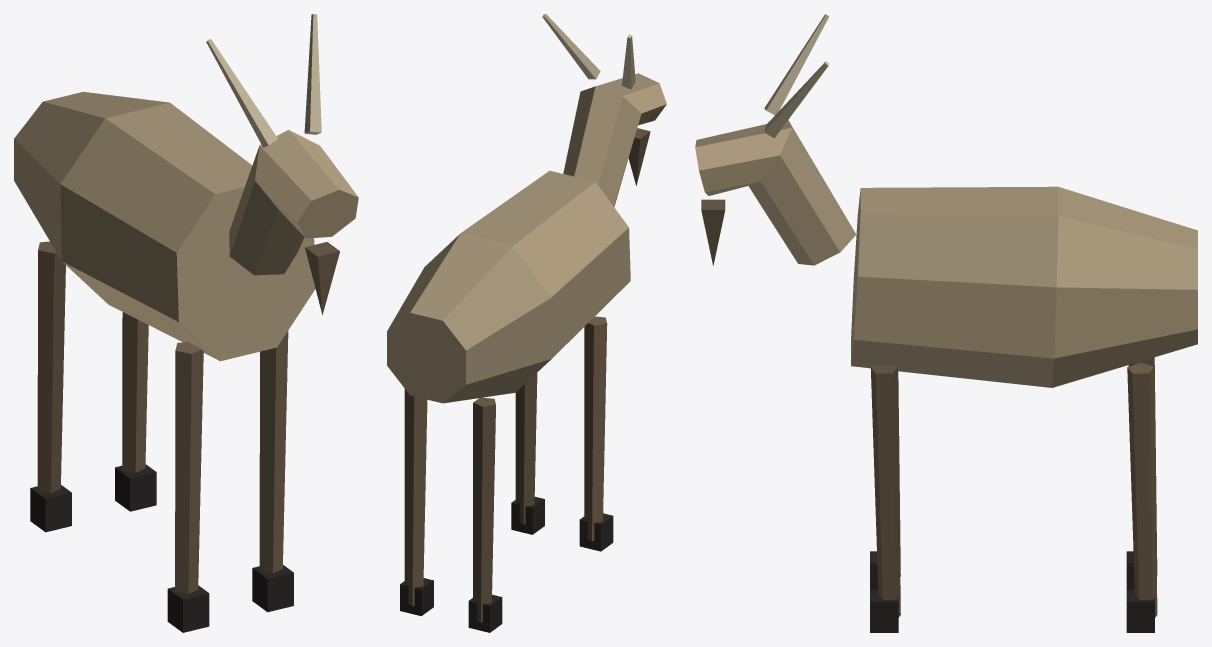
Rendered from walk_animal_goat.glb.
The picture shows the model from 3 angles, left to right: view 1: azimuth 30°, elevation 25°; view 2: azimuth 150°, elevation 25°; view 3: azimuth 270°, elevation 25°; orthographic projection. The views are drawn at different scales.
Visible parts, largest first — view 1: walk_animal_goat; view 2: walk_animal_goat; view 3: walk_animal_goat.
Boxes of the visible parts, <box> form: walk_animal_goat: <box>14,14,358,632</box>; walk_animal_goat: <box>387,14,666,632</box>; walk_animal_goat: <box>695,14,1197,632</box>.
Size of the model in its own units: 0.2956 by 1.1 by 0.8818.
1 material, 1 textured.
